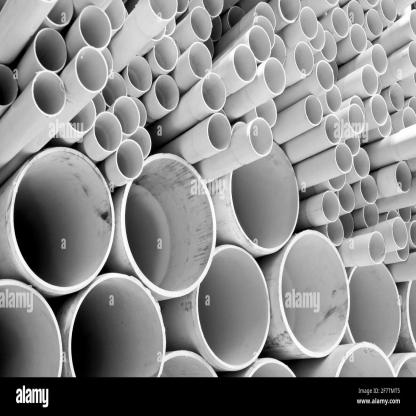PVC: (1, 1, 415, 377)
